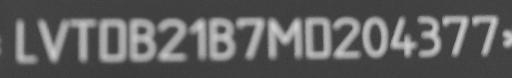letter: (264, 15, 306, 61), (155, 13, 191, 65), (233, 12, 267, 62), (36, 15, 70, 65), (206, 13, 238, 63), (440, 12, 472, 58), (358, 14, 390, 60), (302, 15, 334, 61), (126, 17, 158, 63), (96, 15, 126, 63), (470, 13, 500, 59), (330, 17, 362, 59), (68, 16, 96, 64), (389, 14, 419, 58), (414, 14, 444, 58), (12, 15, 38, 65), (188, 15, 208, 63)
